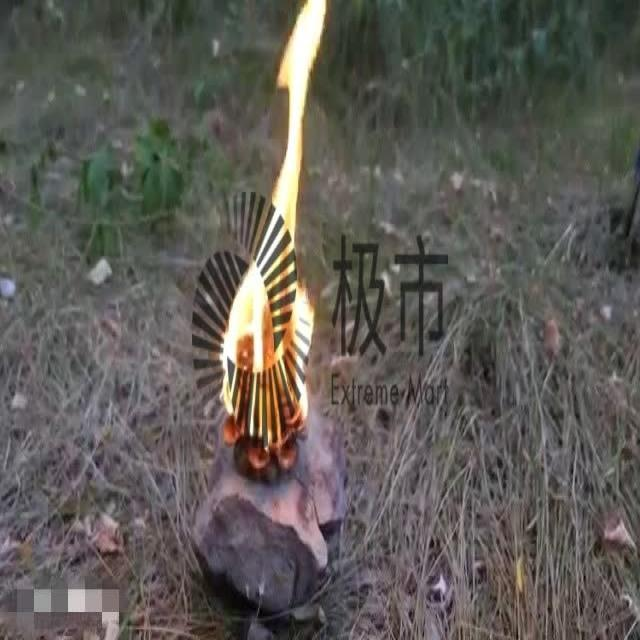fire: (245, 7, 356, 478)
